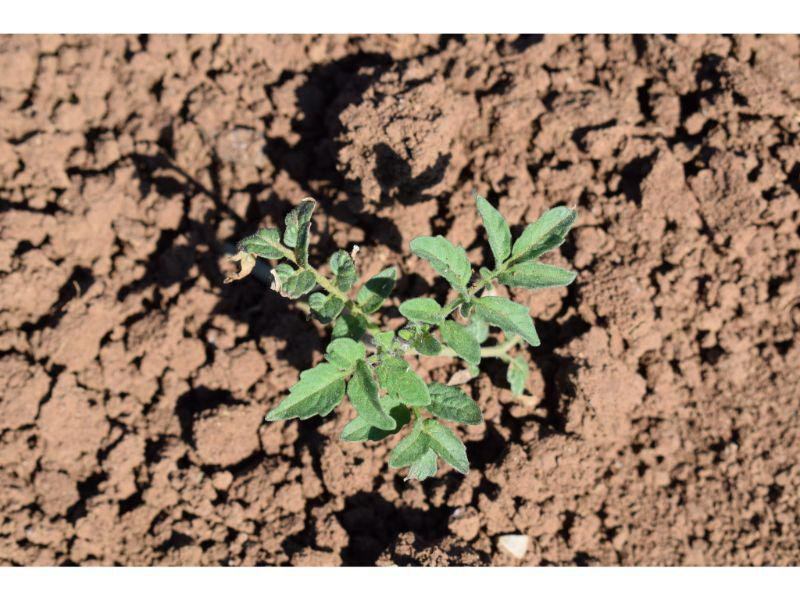tomato: (238, 196, 579, 478)
